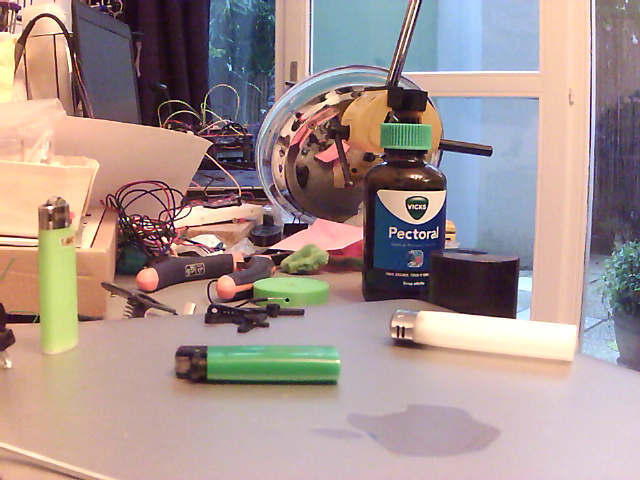lighter: (387, 305, 580, 370), (173, 342, 345, 392), (36, 196, 81, 355)
